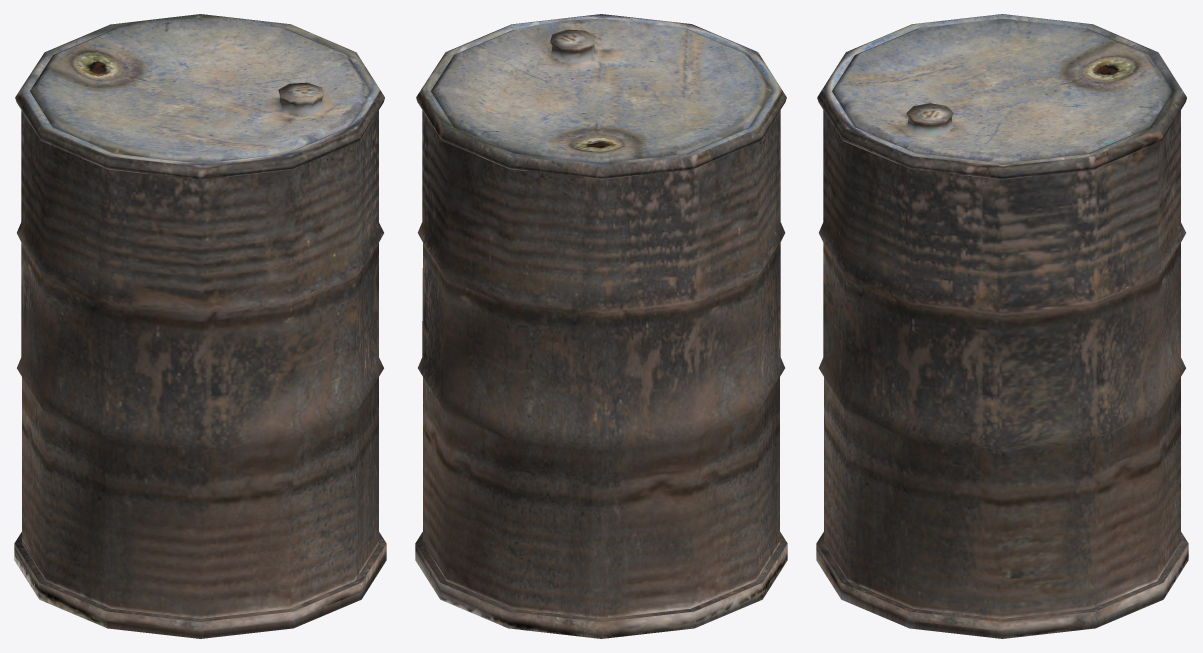
The model's file is rusty-metal-barrel 1111.gltf.
3 views of the same model, side by side, from view 1: azimuth 30°, elevation 25°; view 2: azimuth 150°, elevation 25°; view 3: azimuth 270°, elevation 25° (orthographic).
Parts seen in each view (by area): view 1: barril_low; view 2: barril_low; view 3: barril_low.
Boxes of the visible parts, left/top/right/bottom form: barril_low: left=14, top=14, right=386, bottom=638; barril_low: left=415, top=14, right=787, bottom=638; barril_low: left=816, top=14, right=1188, bottom=638.
Size of the model in its own units: 0.6085 by 0.8657 by 0.6085.
1 material, 1 textured.
